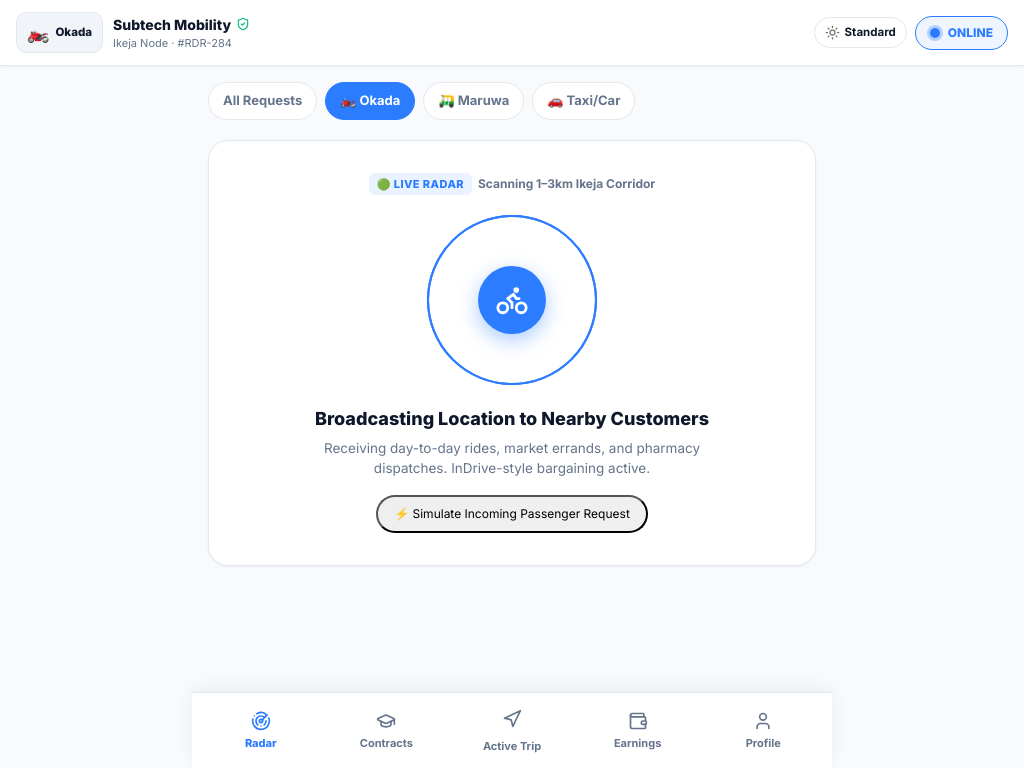
Test: RiderApp Mobile Production Interface › navigates to Profile tab and switches active vehicle persona
Click the tab "Profile". click: (763, 732)
box: x1=700 y1=701 x2=826 y2=762
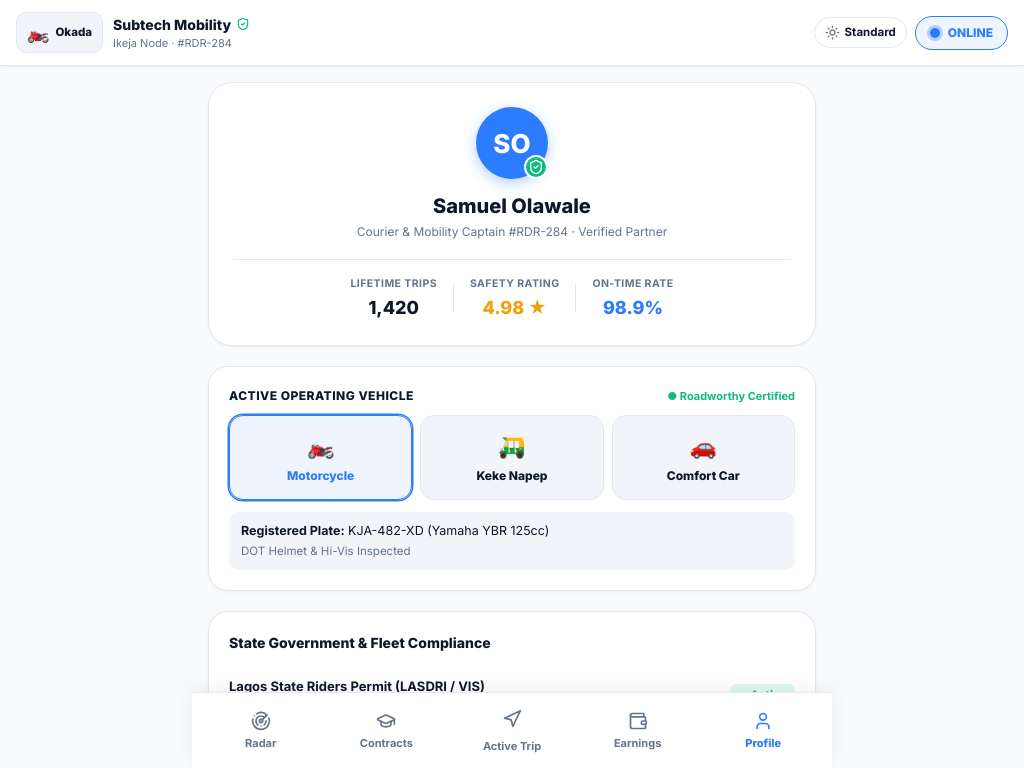
Now the heading "Samuel Olawale" is shown, box x1=433 y1=194 x2=591 y2=218
Now the text "Active Operating Vehicle" is shown, box x1=229 y1=387 x2=414 y2=405
Now the text "Lagos State Riders Permit (LASDRI / VIS)" is shown, box x1=229 y1=677 x2=510 y2=696
